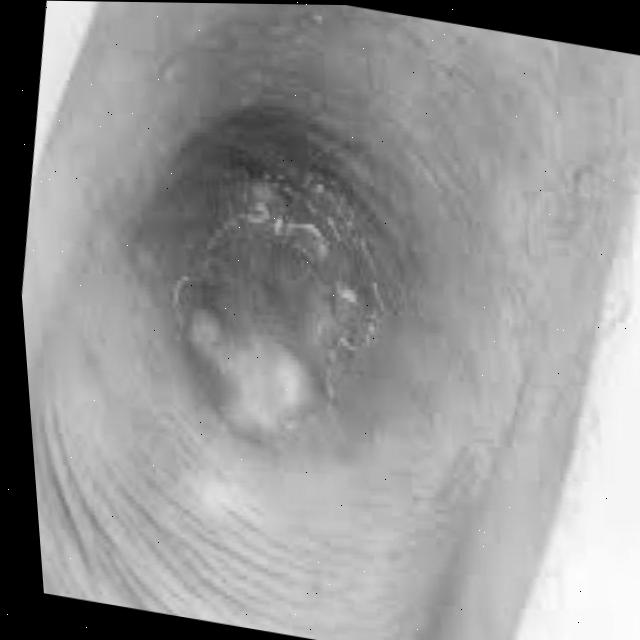Eczema: (133, 129, 455, 467)
